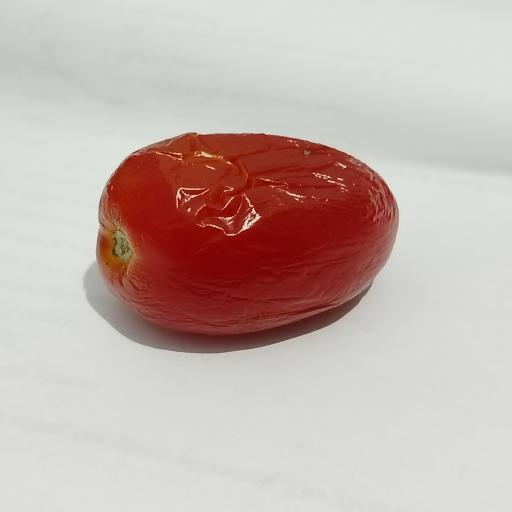spoiled: (97, 133, 398, 334)
